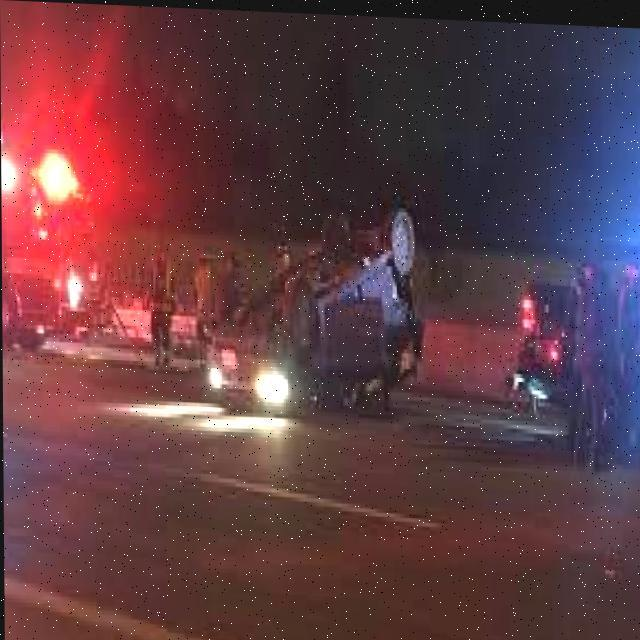single accident: (172, 180, 440, 421)
